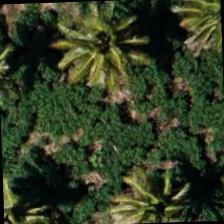Kelapa_Sawit: (46, 0, 140, 85), (95, 160, 188, 224), (169, 0, 222, 64)
